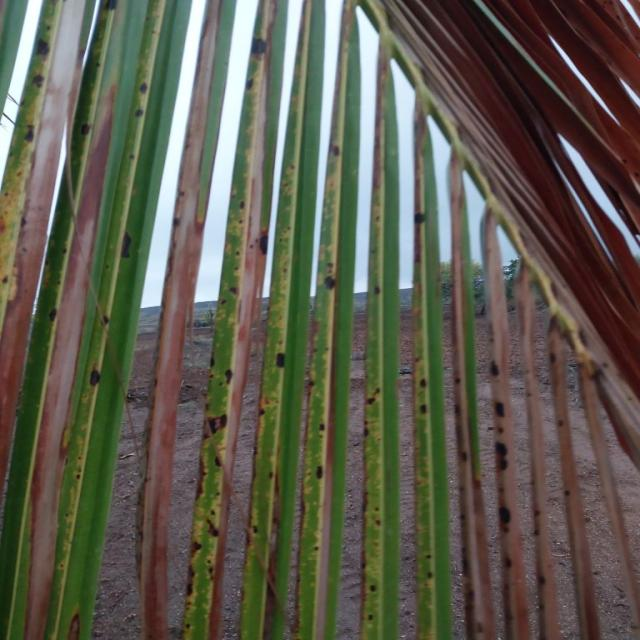gray leaf spot: (0, 0, 638, 640)
